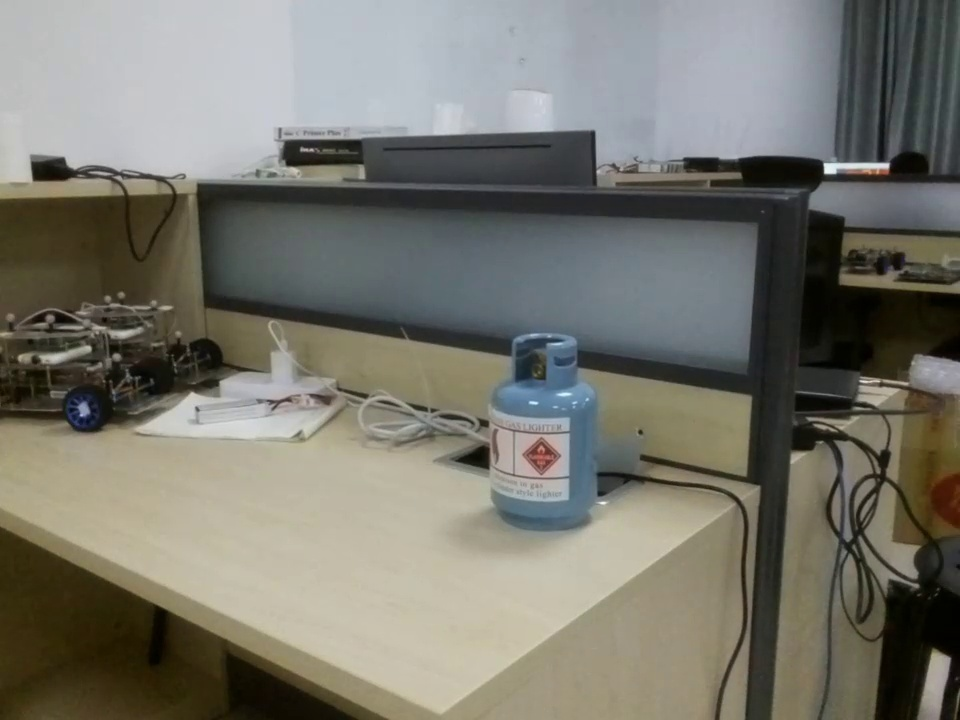gas tank: (486, 331, 622, 531)
